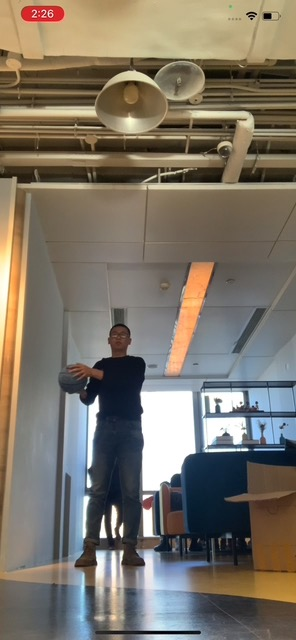ball: (58, 363, 88, 395)
